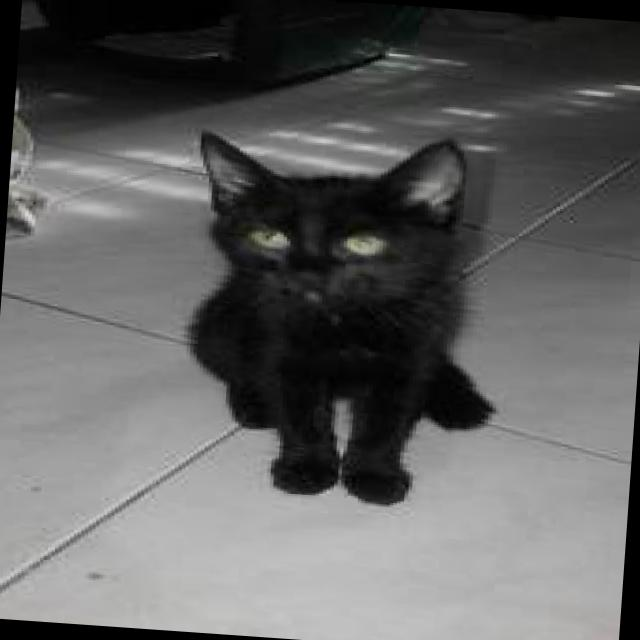animal: (170, 119, 514, 511)
